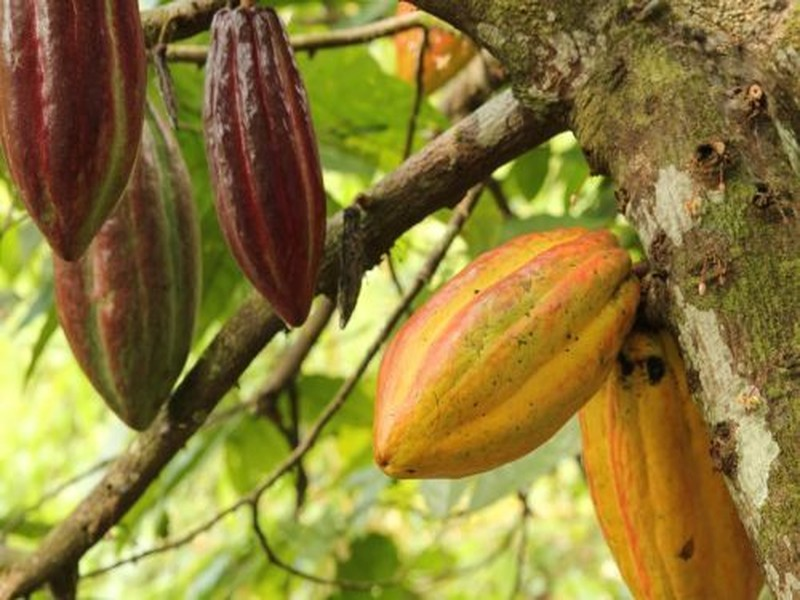Cacaopod: (375, 229, 644, 484)
